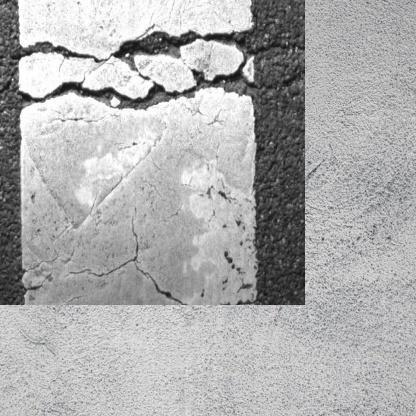Cracks: (15, 62, 282, 99), (0, 27, 282, 60), (0, 62, 19, 98)
